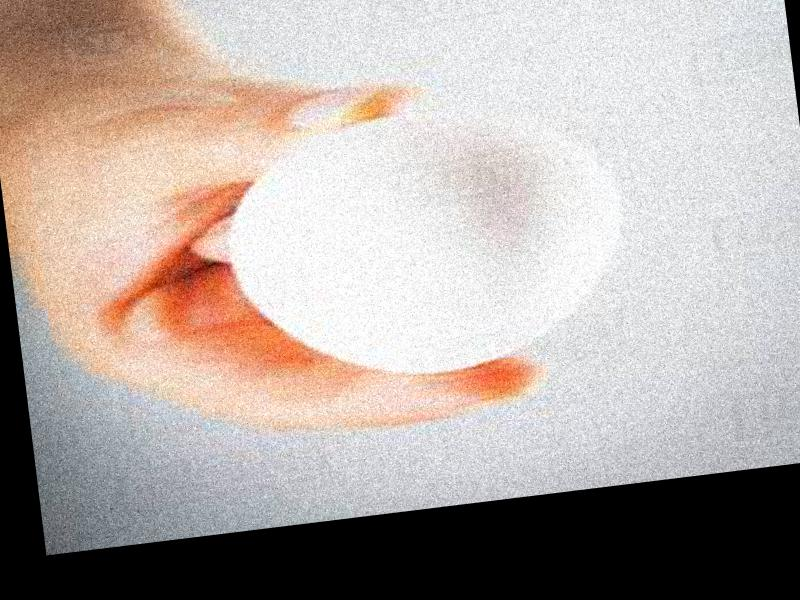Eggs: (219, 95, 637, 395)
